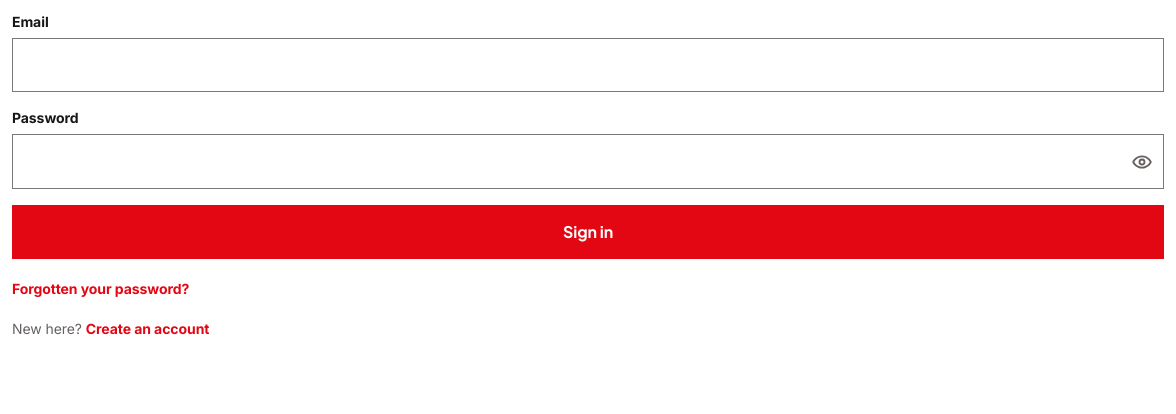
Test: a rejected sign in › keeps the email the visitor already typed
This screenshot has width=1176, height=414.
Type "ada@test.invalid" into the field labelled "Email". click: [588, 65]
box: [12,38,1164,92]
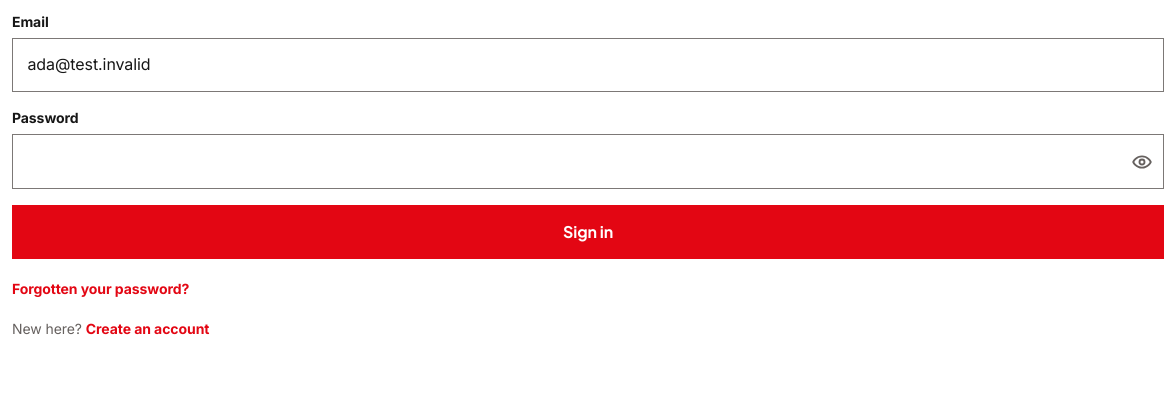
Type "wrong-password" into the password field labelled "Password". click: [588, 162]
box: [12,134,1164,189]
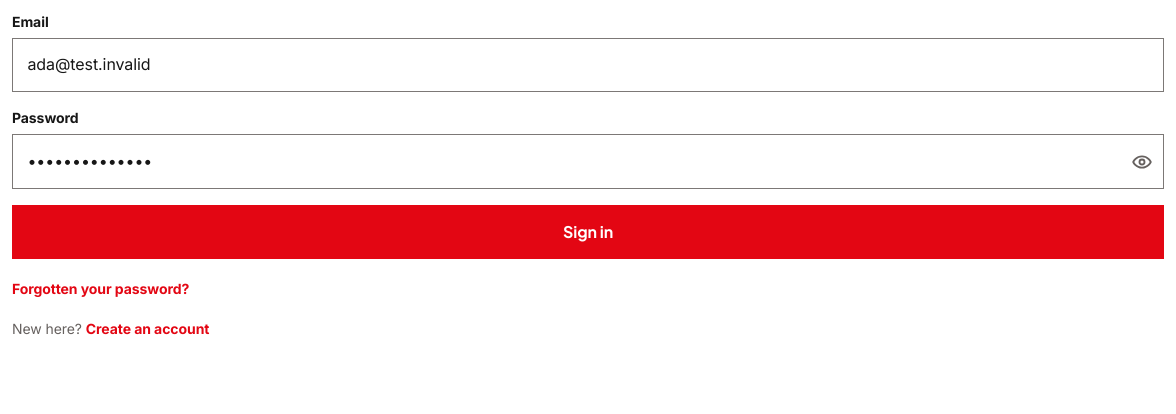
Submit the form, box [12,12,1164,259]
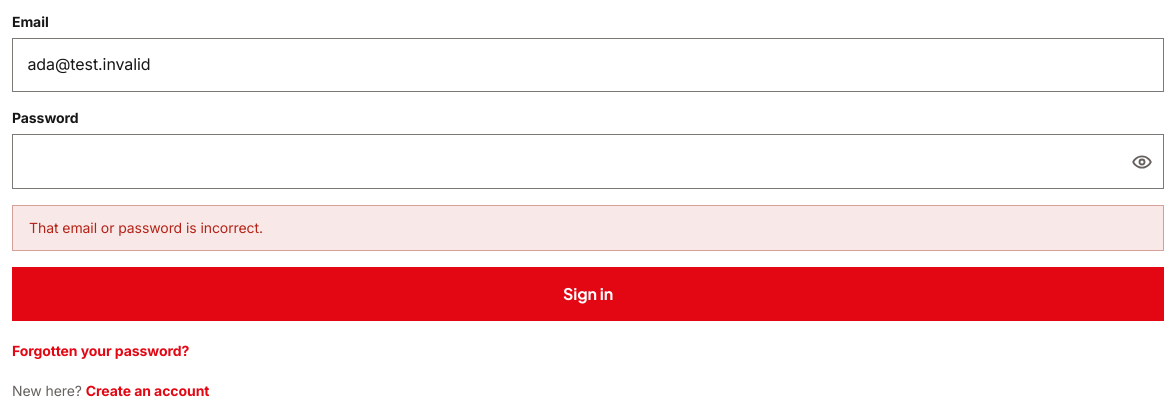
Expected: the message "That email or password is incorrect." is shown, [12,205,1164,251]
